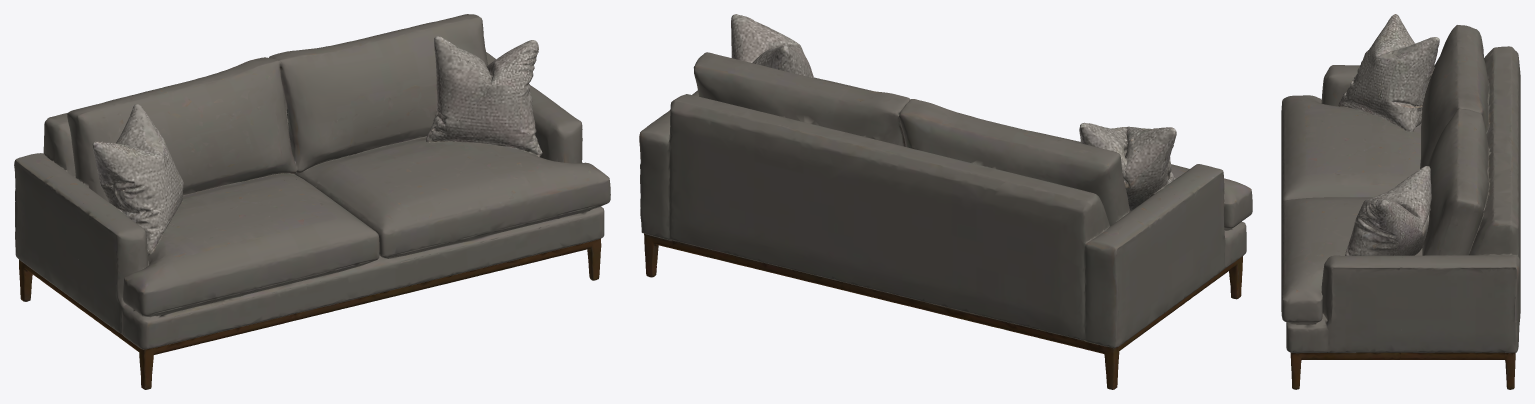
File: sofa-2.glb
3 renders of one model, left to right at view 1: azimuth 30°, elevation 25°; view 2: azimuth 150°, elevation 25°; view 3: azimuth 270°, elevation 25°, orthographic. The views are drawn at different scales.
Parts seen in each view (by area): view 1: sofa-body, sofa-cojin; view 2: sofa-cojin, sofa-body; view 3: sofa-cojin, sofa-body.
Part boxes in pixels (x1,y1,x2,y2): sofa-body: (77,40,610,389); sofa-cojin: (14,14,543,310); sofa-cojin: (639,40,1185,389); sofa-body: (731,14,1252,307); sofa-cojin: (1397,20,1520,389); sofa-body: (1281,14,1403,389).
Size of the model in its own units: 1 by 0.4286 by 0.4955.
1 material, 1 textured.
